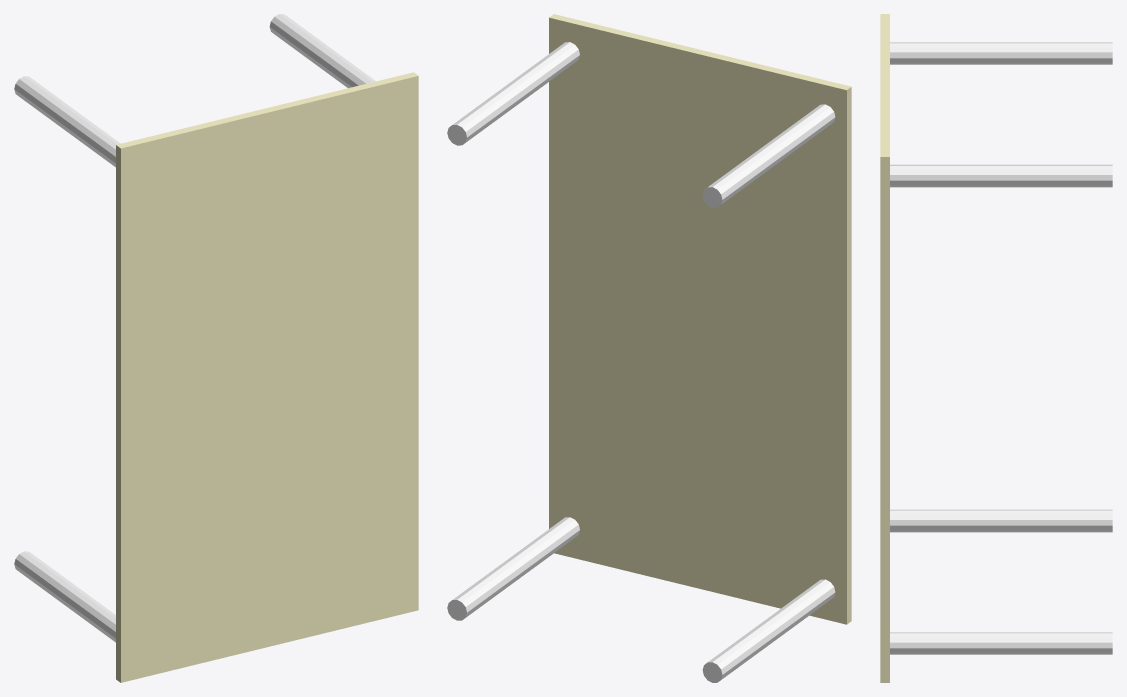
File: nil_link_mesh.dae
3 renders of one model, left to right at view 1: azimuth 30°, elevation 25°; view 2: azimuth 150°, elevation 25°; view 3: azimuth 270°, elevation 25°, orthographic.
Visible parts, largest first — view 1: nil_link (×4); view 2: nil_link (×5); view 3: nil_link (×5).
Boxes of the visible parts, x1=… form: nil_link (×4): x1=14, y1=14, x2=418, y2=682; nil_link (×5): x1=447, y1=14, x2=851, y2=682; nil_link (×5): x1=880, y1=14, x2=1112, y2=682.
Bounding box in the file's own units: 1.05 × 1.8 × 0.72.
